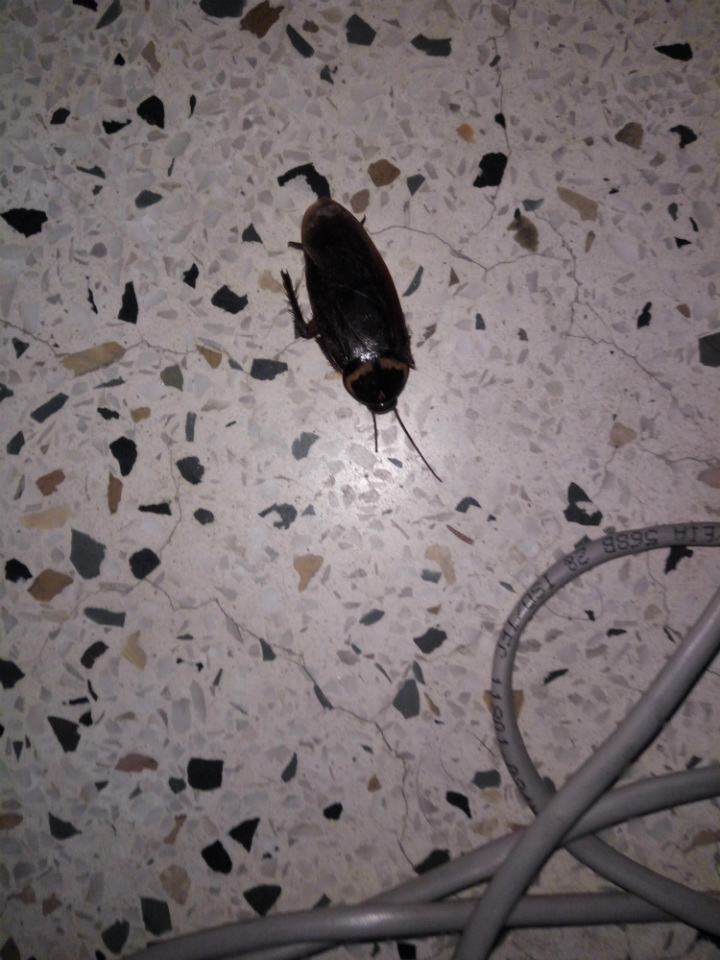cockroach: (203, 146, 498, 502)
